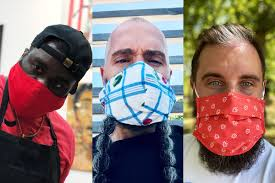with-mask: (189, 22, 272, 163), (2, 20, 93, 129), (101, 14, 178, 128)
